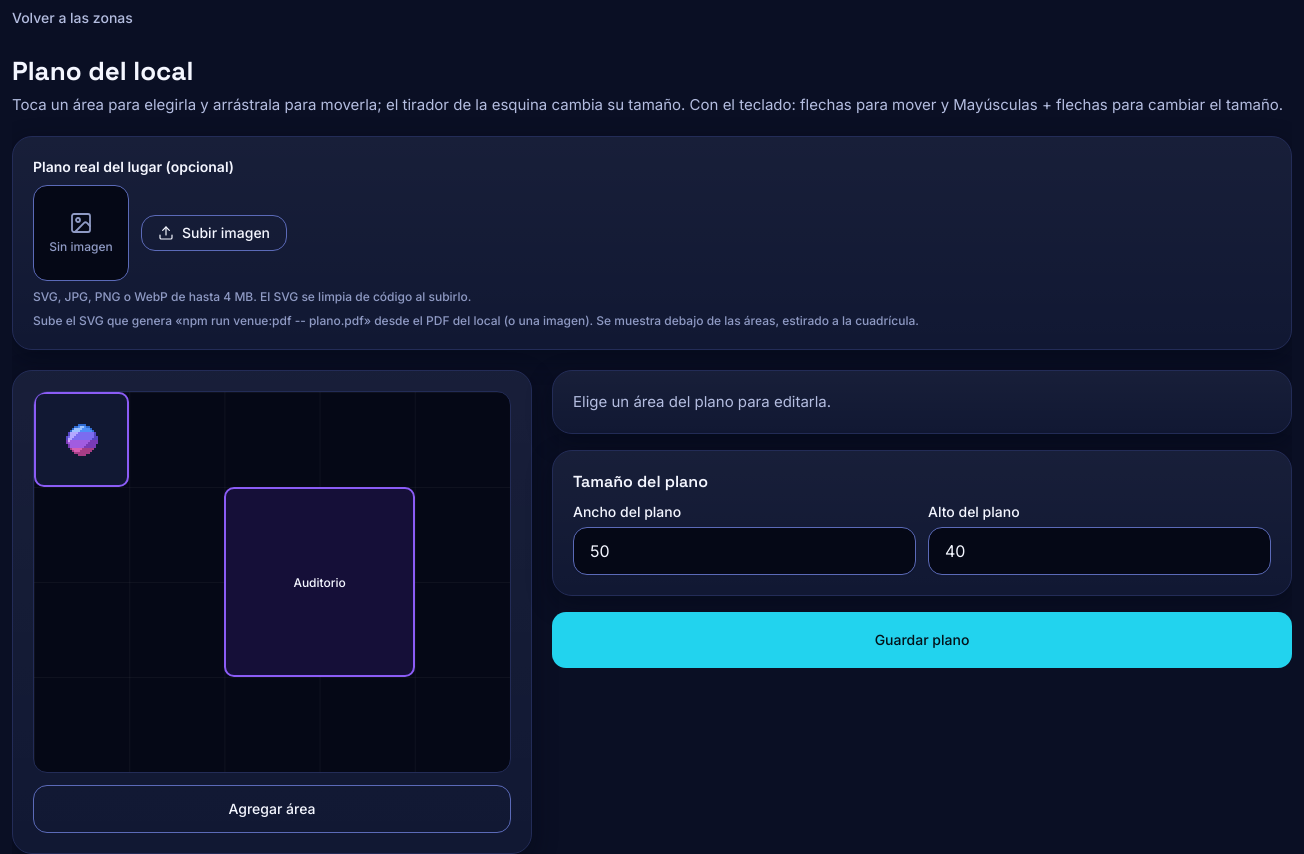
Test: VenueEditor › warns about stand QR codes that could not be created
The image size is (1304, 854).
Click the button "Guardar plano" at (922, 640), box [552,612,1292,668]
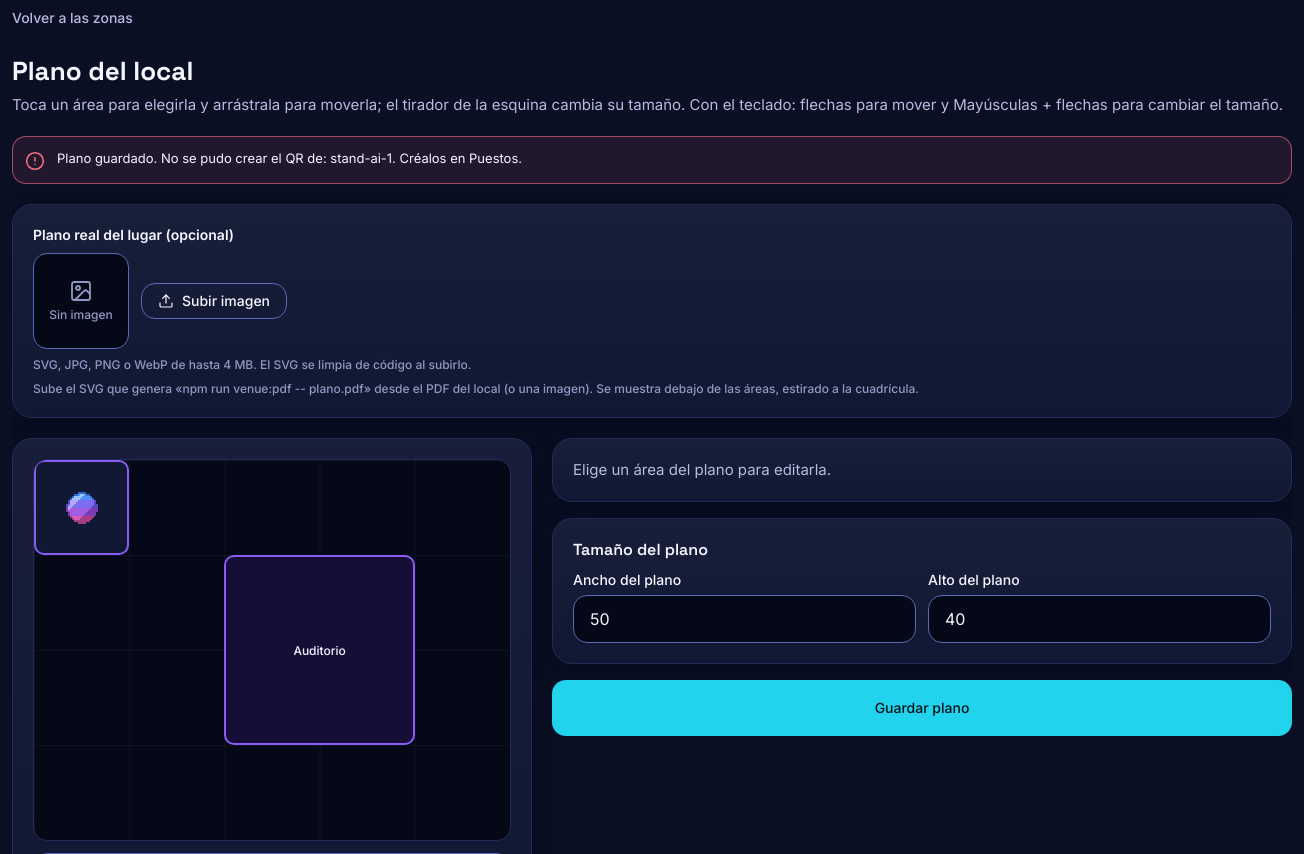
Result: the message shows "No se pudo crear el QR de: stand-ai-1." at [57,150,522,166]
